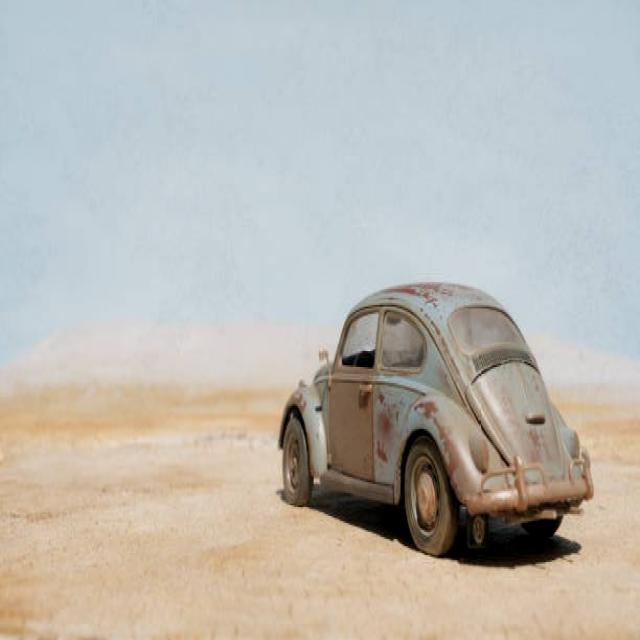car: (273, 289, 596, 564)
